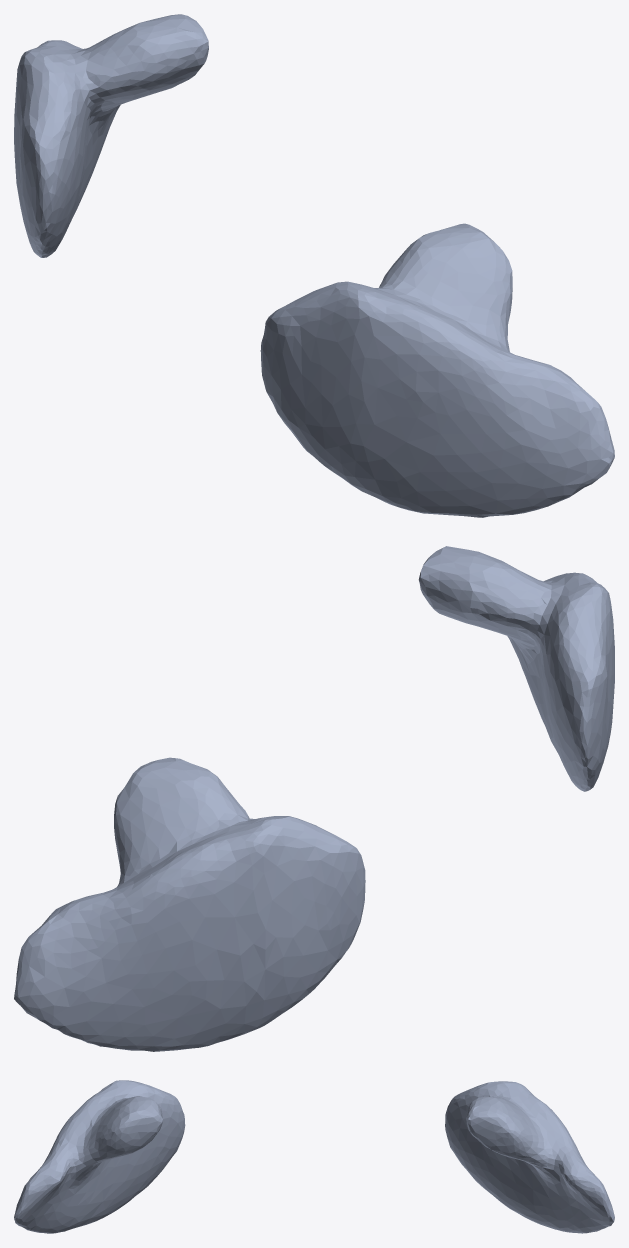
The picture shows the model from 3 angles, top to bottom: view 1: azimuth 30°, elevation 25°; view 2: azimuth 150°, elevation 25°; view 3: azimuth 270°, elevation 25°; orthographic projection. The views are drawn at different scales.
Visible parts, largest first — view 1: 818.obj; view 2: 818.obj; view 3: 818.obj.
Boxes of the visible parts, box(x1,y1,x2,y2) form: 818.obj: box(14, 14, 614, 517); 818.obj: box(14, 546, 614, 1051); 818.obj: box(14, 1080, 614, 1233).
Size of the model in its own units: 1617 by 1639 by 6396.
